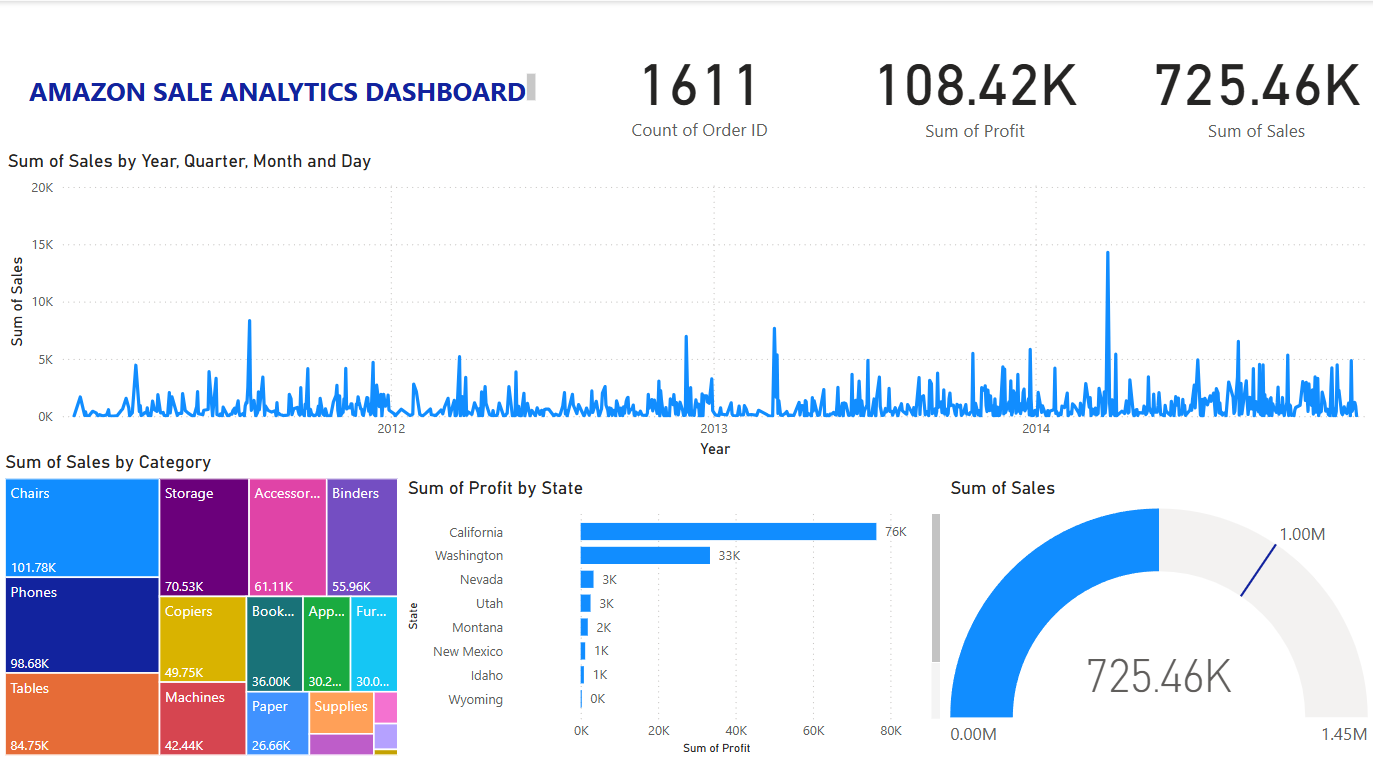

Layout of this report page (visuals, bound fields, positions):
{"tool":"powerbi","page":{"name":"Page 1","canvas":[1280,720],"ordinal":0},"visuals":[{"type":"card","fields":{"Values":["Sum(Walmart.Sales)"]},"box":[1057.7,0,221.9,163.6],"z":0},{"type":"card","fields":{"Values":["Sum(Walmart.Profit)"]},"box":[757.4,0,300.3,163.6],"z":1000},{"type":"card","fields":{"Values":["Count(Walmart.Order ID)"]},"box":[512.9,0,276.4,162.8],"z":2000},{"type":"lineChart","fields":{"Category":["Walmart.Order Date.Variation.Date Hierarchy.Year","Walmart.Order Date.Variation.Date Hierarchy.Quarter","Walmart.Order Date.Variation.Date Hierarchy.Month","Walmart.Order Date.Variation.Date Hierarchy.Day"],"Y":["Sum(Walmart.Sales)"]},"box":[2.5,138.6,1277.8,291.9],"z":3000},{"type":"treemap","fields":{"Group":["Walmart.Category"],"Values":["Sum(Walmart.Sales)"]},"box":[0,418.2,375.2,288.2],"z":4000},{"type":"barChart","fields":{"Category":["Walmart.State"],"Y":["Sum(Walmart.Profit)"]},"box":[374,442.7,505.2,263.7],"z":5000},{"type":"gauge","fields":{"Y":["Sum(Walmart.Sales)"]},"box":[879.3,442.7,398.5,263.7],"z":6000},{"type":"textbox","box":[22.1,62.5,480.7,38],"z":7000}]}

Visuals, with their boxes in screenshot pixels (x1, y1, x2, y2), scaled from the page's 1280x720 canvas onto the 1373x772 screenshot:
card - Sum(Walmart.Sales): 1135:0:1372:175
card - Sum(Walmart.Profit): 812:0:1135:175
card - Count(Walmart.Order ID): 550:0:847:175
lineChart - Walmart.Order Date.Variation.Date Hierarchy.Year x Walmart.Order Date.Variation.Date Hierarchy.Quarter: 3:149:1372:462
treemap - Walmart.Category x Sum(Walmart.Sales): 0:448:402:757
barChart - Walmart.State x Sum(Walmart.Profit): 401:475:943:757
gauge - Sum(Walmart.Sales): 943:475:1371:757
textbox: 24:67:539:108
